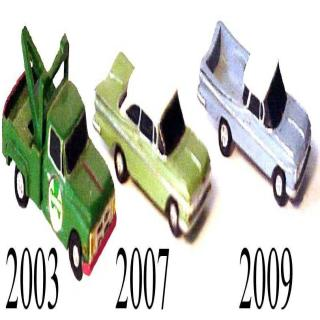Towing_truck: (1, 23, 117, 283)
